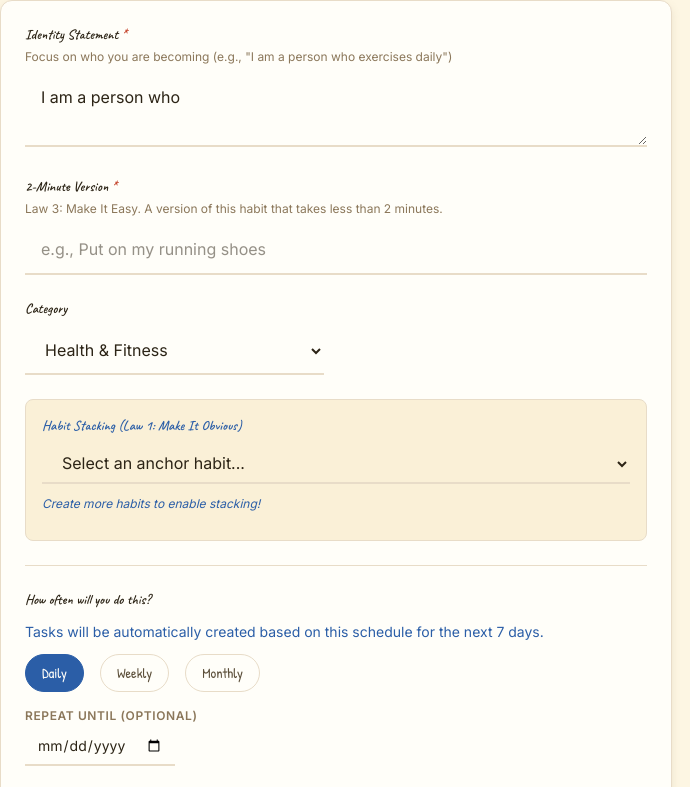
it: HabitForm Component › Recurring Schedule Builder › shows day of month input when monthly is selected
The image size is (690, 787).
Click the radio button labelled "Monthly".
click(223, 673)  # box top-left (185, 654), bottom-right (260, 692)
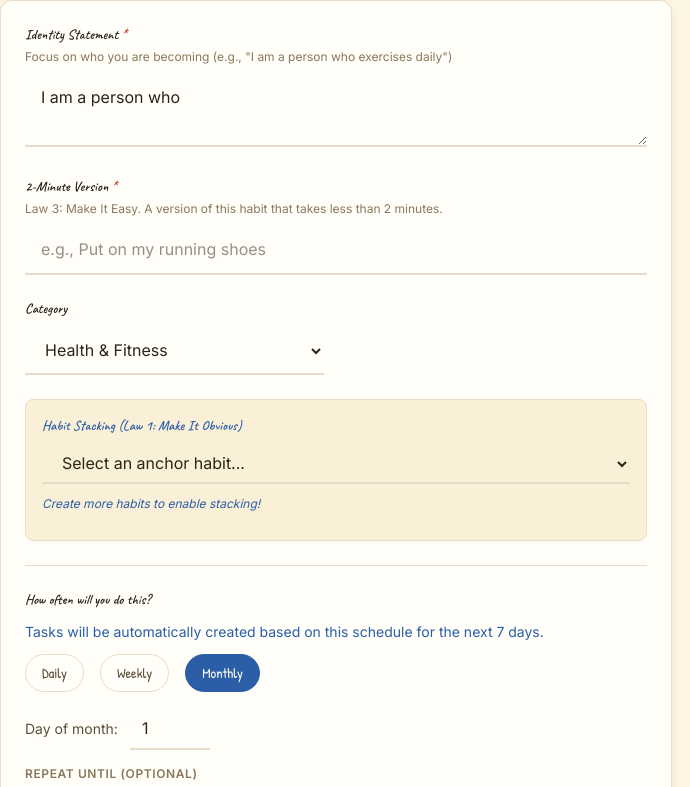
Check: the number field labelled "Day of month:" is shown, box top-left (130, 708), bottom-right (210, 750)
